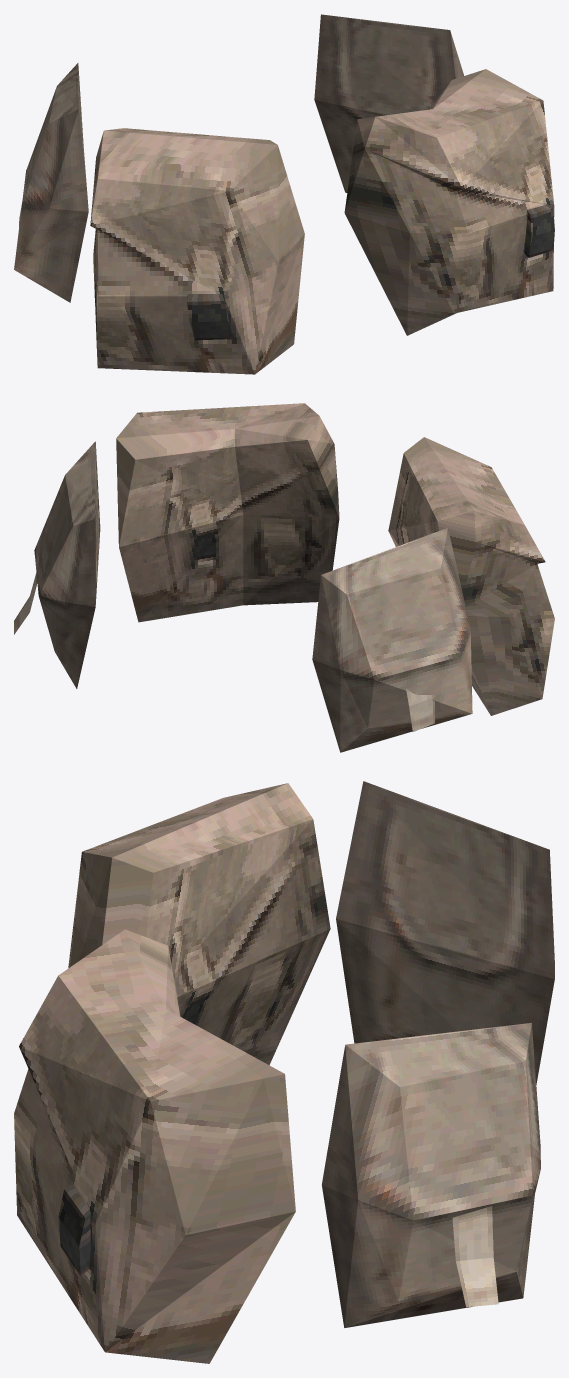
The model's file is recovered_gear_seal_d_hp_19c5c568dc64.glb.
3 views of the same model, one above another, from view 1: azimuth 30°, elevation 25°; view 2: azimuth 150°, elevation 25°; view 3: azimuth 270°, elevation 25° (orthographic). The views are drawn at different scales.
Parts seen in each view (by area): view 1: seal_d_hp; view 2: seal_d_hp; view 3: seal_d_hp.
Part boxes in pixels (x1=…): seal_d_hp: x1=14, y1=14, x2=554, y2=374; seal_d_hp: x1=14, y1=403, x2=554, y2=752; seal_d_hp: x1=14, y1=781, x2=554, y2=1363.
Bounding box in the file's own units: 0.4956 × 0.2381 × 0.3582.
Materials: 2 (2 with a texture image).
